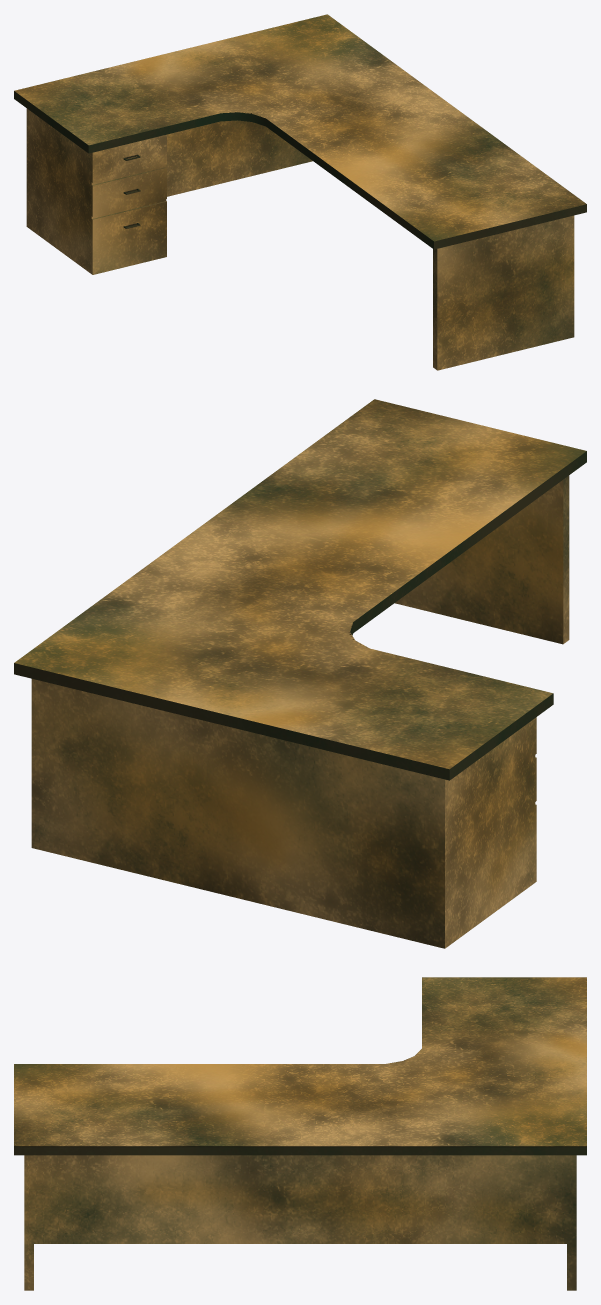
The model's file is L table - II.FBX.
The picture shows the model from 3 angles, top to bottom: view 1: azimuth 30°, elevation 25°; view 2: azimuth 150°, elevation 25°; view 3: azimuth 270°, elevation 25°; orthographic projection. The views are drawn at different scales.
Parts seen in each view (by area): view 1: Box001; view 2: Box001; view 3: Box001.
Boxes of the visible parts, x1,y1,x2,y2 form: Box001: (14, 14, 586, 370); Box001: (14, 399, 586, 948); Box001: (14, 977, 586, 1290).
Bounding box in the file's own units: 38.94 × 15.96 × 55.81.
1 material, 1 textured.
